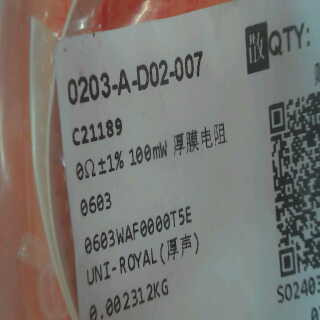0R: (75, 147, 127, 218)
